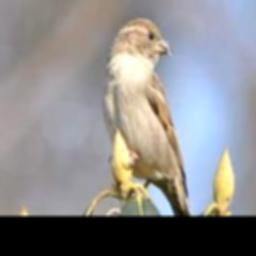Sparrow: (102, 17, 192, 215)
